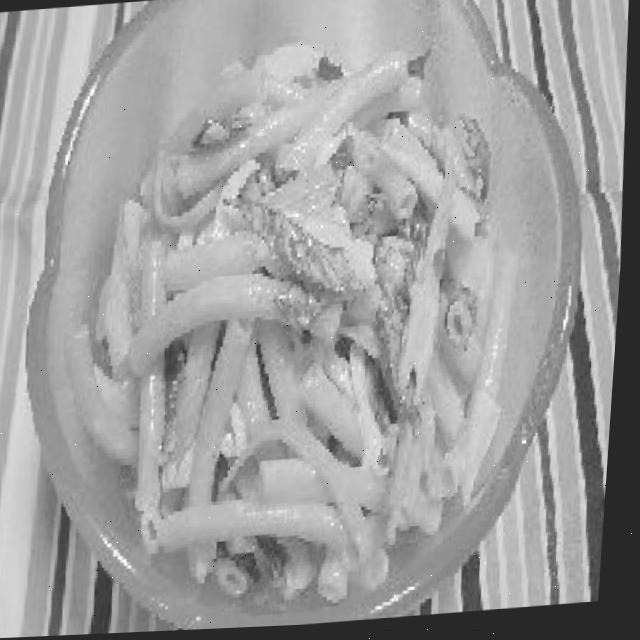蔬菜料理: (0, 0, 611, 639)
